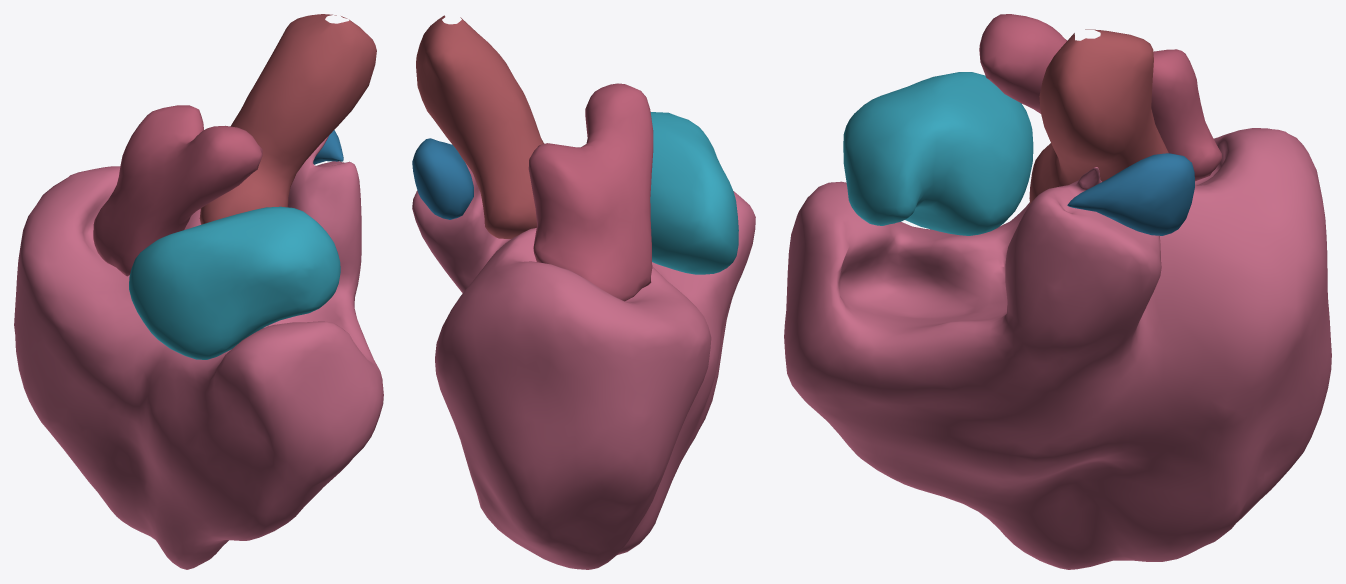
Rendered from frame_66.glb.
3 renders of one model, left to right at view 1: azimuth 30°, elevation 25°; view 2: azimuth 150°, elevation 25°; view 3: azimuth 270°, elevation 25°, orthographic. The views are drawn at different scales.
Visible parts, largest first — view 1: Renderer Node; view 2: Renderer Node; view 3: Renderer Node.
Part boxes in pixels (x1=…): Renderer Node: x1=14, y1=14, x2=383, y2=569; Renderer Node: x1=412, y1=15, x2=755, y2=569; Renderer Node: x1=784, y1=14, x2=1331, y2=569.
Bounding box in the file's own units: 101 × 161 × 127.
